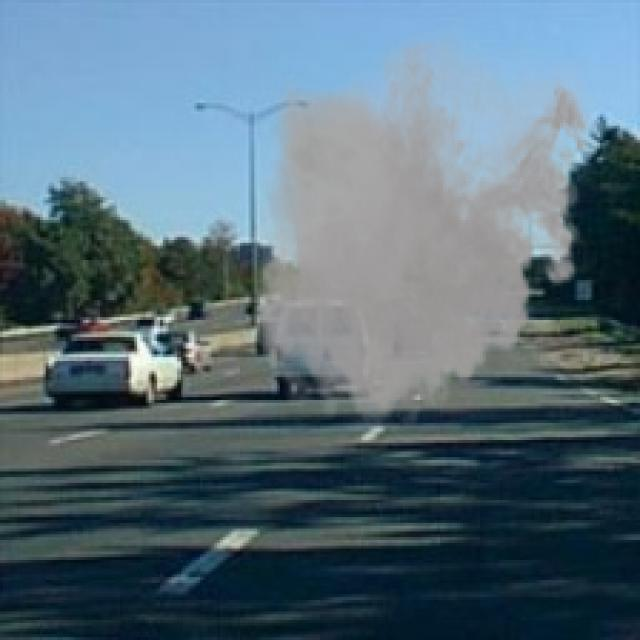smoke: (243, 17, 600, 437)
